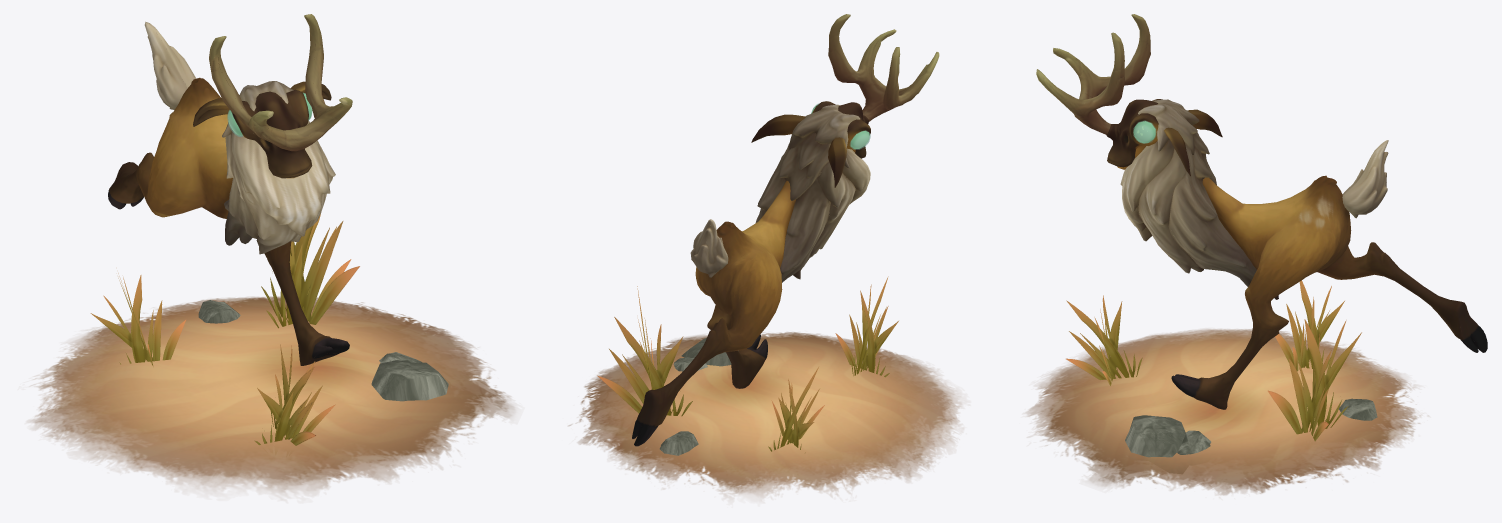
File: simple-creature---duckdeer-08041b.glb
3 renders of one model, left to right at view 1: azimuth 30°, elevation 25°; view 2: azimuth 150°, elevation 25°; view 3: azimuth 270°, elevation 25°, orthographic. The views are drawn at different scales.
Parts seen in each view (by area): view 1: PropMesh; view 2: PropMesh; view 3: PropMesh.
Part boxes in pixels (x1=…): PropMesh: x1=29, y1=14, x2=514, y2=493; PropMesh: x1=568, y1=14, x2=961, y2=497; PropMesh: x1=1026, y1=14, x2=1487, y2=494.
Bounding box in the file's own units: 0.996 × 1 × 1.1.
Materials: 6 (5 with a texture image).
